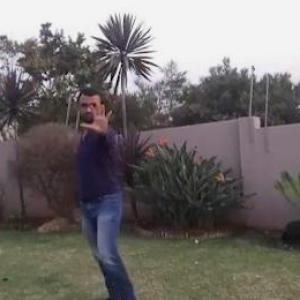follow_hand: (78, 98, 114, 136)
